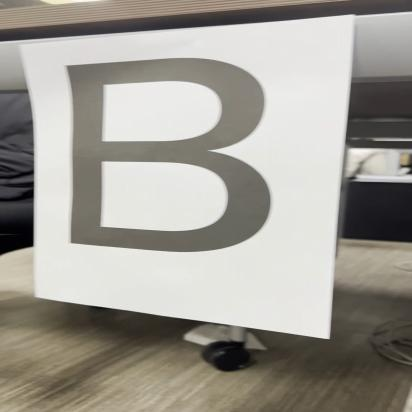seat: (45, 56, 283, 260)
